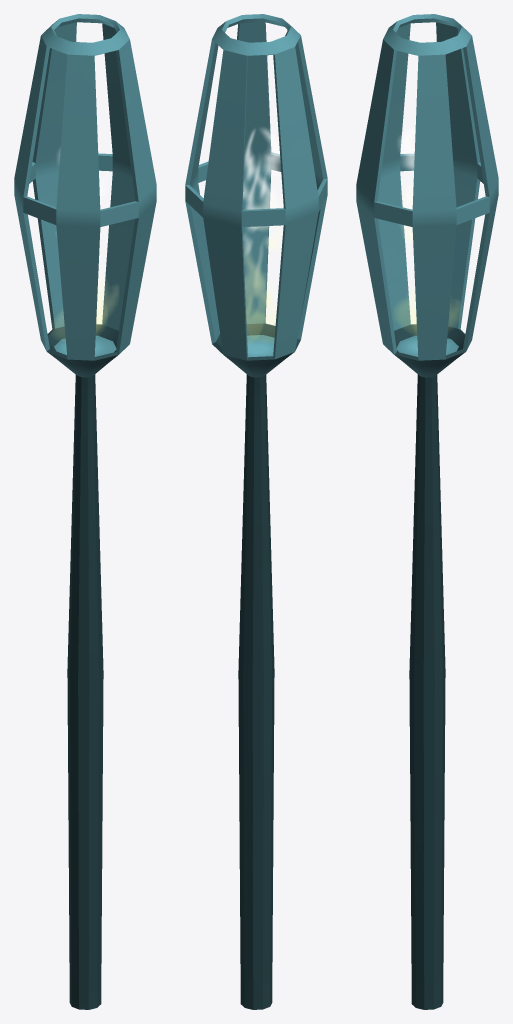
The model's file is entity15404.gltf.
The picture shows the model from 3 angles, left to right: view 1: azimuth 30°, elevation 25°; view 2: azimuth 150°, elevation 25°; view 3: azimuth 330°, elevation 25°; orthographic projection.
Visible parts, largest first — view 1: node_Torch_Art, node_pPlane2; view 2: node_Torch_Art, node_pPlane2; view 3: node_Torch_Art, node_pPlane2.
Part boxes in pixels (x1,y1,x2,y2): node_Torch_Art: (14, 14, 156, 1009); node_pPlane2: (57, 151, 114, 332); node_Torch_Art: (185, 14, 327, 1009); node_pPlane2: (243, 129, 282, 338); node_Torch_Art: (356, 14, 498, 1009); node_pPlane2: (399, 126, 457, 333).
Size of the model in its own units: 0.3909 by 2.93 by 0.3718.
2 materials, 2 textured.
